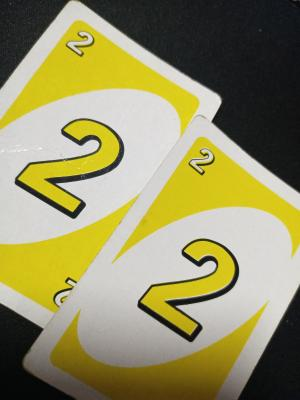num_2: (3, 116, 129, 223), (62, 15, 98, 91)
yellow: (183, 138, 227, 220)
